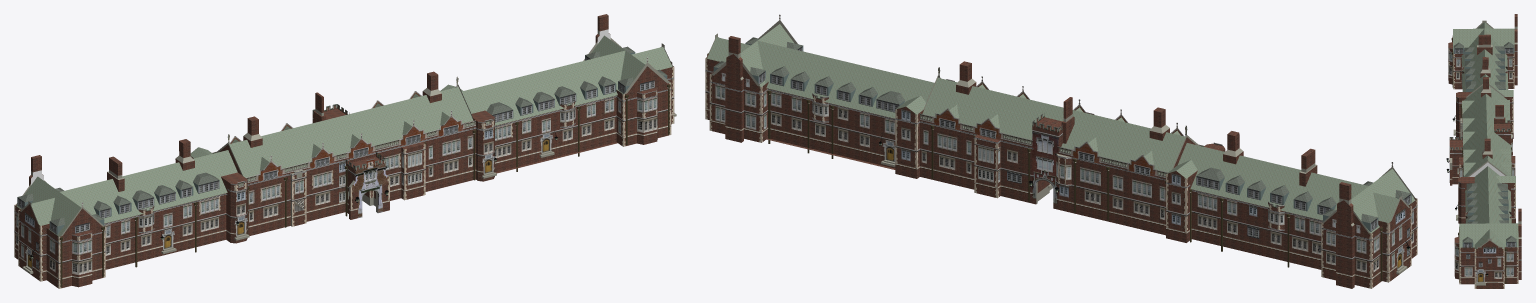
The model's file is OldDormBlockFinal.fbx.
3 views of the same model, side by side, from view 1: azimuth 30°, elevation 25°; view 2: azimuth 150°, elevation 25°; view 3: azimuth 270°, elevation 25° (orthographic). The views are drawn at different scales.
Parts seen in each view (by area): view 1: Model, South_End_Bulge2, South_End_Bulge1, South_Transition_Bulge2, South_Transition_Bulge1, Dormer1_4, Dormer1_1, Dormer1_2, Dormer1_5, Dormer1_3, Side_dormer_4_windows2, Chimney2_3; view 2: Model, End_Chimney2, End_Chimney1, Dormer1_9, Dormer1_6, Dormer1_7, Dormer1_8, Side_dormer_4_windows4, Chimney2_2, Chimney2_1, Chimney2_3, Side_dormer_4_windows1; view 3: Model, End_Chimney1, End_Chimney2, South_Transition_Bulge1, South_Transition_Bulge2, South_End_Bulge2, South_End_Bulge1, Chimney2_1, Chimney2_3, Dorm_Door3, Chimney2_2, Side_dormer_2_windows18 (+31 smaller).
Boxes of the visible parts, x1,y1,x2,y2 form: Model: (14,35,674,288); South_End_Bulge2: (637,87,657,144); South_End_Bulge1: (72,229,92,287); South_Transition_Bulge2: (228,180,247,243); South_Transition_Bulge1: (476,118,494,181); Dormer1_4: (308,144,336,169); Dormer1_1: (256,157,284,181); Dormer1_2: (436,111,464,136); Dormer1_5: (346,134,374,159); Dormer1_3: (399,121,426,146); Side_dormer_4_windows2: (193,172,219,193); Chimney2_3: (175,139,194,170); Model: (705,20,1417,288); End_Chimney2: (1336,182,1354,288); End_Chimney1: (725,36,743,142); Dormer1_9: (1127,151,1157,177); Dormer1_6: (932,104,962,130); Dormer1_7: (972,114,1002,140); Dormer1_8: (1071,137,1101,163); Side_dormer_4_windows4: (1196,167,1224,190); Chimney2_2: (1149,107,1169,140); Chimney2_1: (956,61,976,94); Chimney2_3: (1223,131,1243,164); Side_dormer_4_windows1: (876,91,904,112); Model: (1449,20,1518,288); End_Chimney1: (1518,208,1521,279); End_Chimney2: (1514,14,1517,85); South_Transition_Bulge1: (1458,182,1463,223); South_Transition_Bulge2: (1456,96,1461,139); South_End_Bulge2: (1454,237,1459,279); South_End_Bulge1: (1448,42,1452,84); Chimney2_1: (1482,138,1492,158); Chimney2_3: (1480,57,1490,77); Dorm_Door3: (1475,269,1485,285); Chimney2_2: (1481,77,1491,97); Side_dormer_2_windows18: (1506,235,1516,247).
Bounding box in the file's own units: 4592 × 708 × 662.
